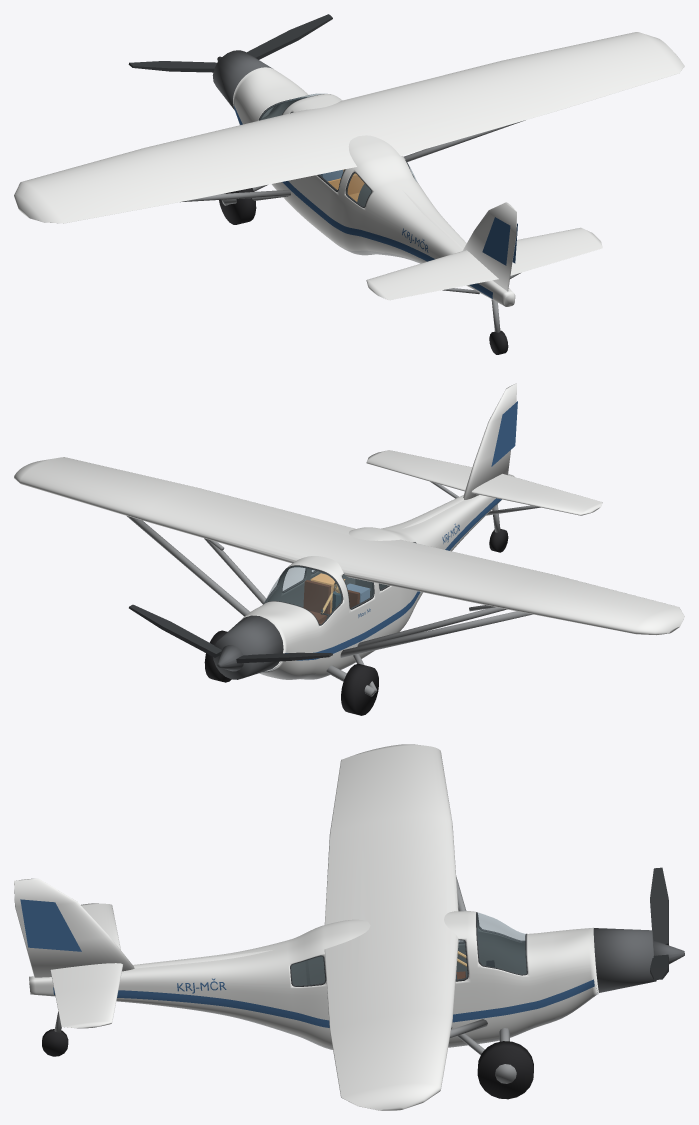
Rendered from utva-liaison.glb.
The picture shows the model from 3 angles, top to bottom: view 1: azimuth 30°, elevation 25°; view 2: azimuth 150°, elevation 25°; view 3: azimuth 270°, elevation 25°; orthographic projection. The views are drawn at different scales.
Visible parts, largest first — view 1: Wing, Fuselage, Tailplane, Fin, Cowling, Cheatline-1, PropBlade0, FinFlash-1, PropBlade1, Wheel, StrutAft, StrutAft.001; view 2: Wing, Fuselage, Tailplane, Windscreen, Cowling, Fin, Wheel, StrutFwd, StrutFwd.001, Cheatline-1, PropBlade0, Seats_1_GtaAirplaneSeats (+6 smaller); view 3: Wing, Fuselage, Fin, Tailplane, Cowling, Cheatline1, Wheel.001, Windscreen, FinFlash1, PropBlade1, Quarter1, TailWheel.
Part boxes in pixels (left/top/right/bottom): Wing: left=14, top=32, right=684, bottom=223; Fuselage: left=233, top=67, right=515, bottom=306; Tailplane: left=366, top=227, right=602, bottom=300; Fin: left=462, top=202, right=516, bottom=291; Cowling: left=212, top=50, right=272, bottom=110; Cheatline-1: left=234, top=106, right=492, bottom=298; PropBlade0: left=247, top=14, right=332, bottom=59; FinFlash-1: left=482, top=217, right=510, bottom=265; PropBlade1: left=128, top=61, right=216, bottom=72; Wheel: left=219, top=188, right=256, bottom=224; StrutAft: left=180, top=189, right=290, bottom=202; StrutAft.001: left=404, top=120, right=525, bottom=161; Wing: left=14, top=457, right=684, bottom=635; Fuselage: left=239, top=474, right=514, bottom=679; Tailplane: left=366, top=450, right=602, bottom=515; Windscreen: left=263, top=566, right=342, bottom=624; Cowling: left=213, top=615, right=283, bottom=679; Fin: left=463, top=383, right=516, bottom=499; Wheel: left=341, top=663, right=378, bottom=715; StrutFwd: left=340, top=611, right=532, bottom=657; StrutFwd.001: left=127, top=516, right=249, bottom=616; Cheatline-1: left=285, top=498, right=501, bottom=660; PropBlade0: left=129, top=604, right=221, bottom=657; Seats_1_GtaAirplaneSeats: left=303, top=580, right=359, bottom=624; Wing: left=324, top=744, right=458, bottom=1110; Fuselage: left=29, top=911, right=598, bottom=1049; Fin: left=14, top=878, right=134, bottom=977; Tailplane: left=50, top=903, right=122, bottom=1028; Cowling: left=593, top=928, right=656, bottom=992; Cheatline1: left=53, top=979, right=594, bottom=1027; Wheel.001: left=477, top=1041, right=533, bottom=1099; Windscreen: left=477, top=912, right=526, bottom=974; FinFlash1: left=20, top=899, right=81, bottom=951; PropBlade1: left=650, top=867, right=668, bottom=945; Quarter1: left=291, top=956, right=324, bottom=985; TailWheel: left=42, top=1029, right=68, bottom=1056.
Bounding box in the file's own units: 10.8 × 2.48 × 8.57.
